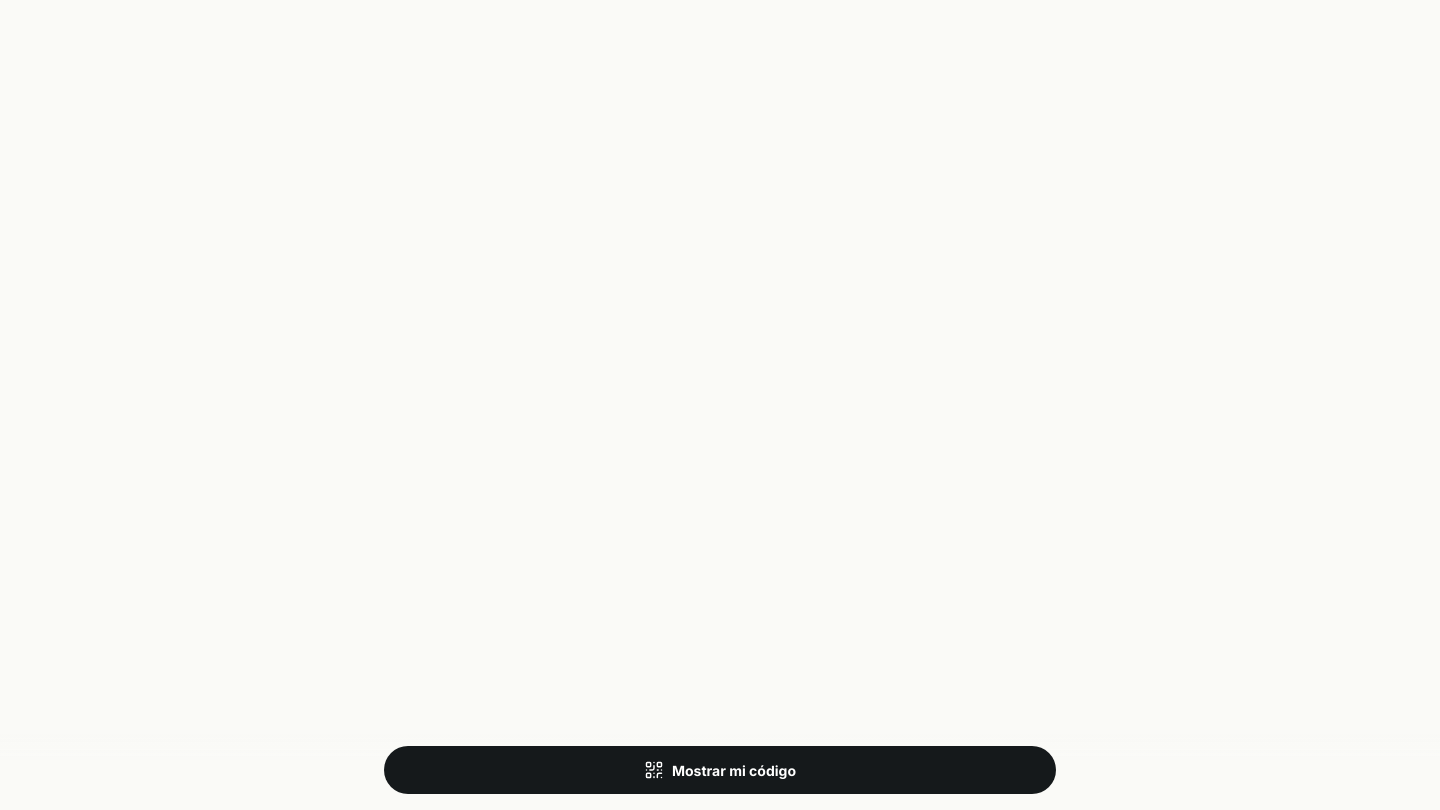
Test: the QR payload › keeps the uuid as the readable fallback for a legacy customer when the QR cannot be drawn
Click the button "Mostrar mi código" at (720, 770), box [384,746,1056,794]
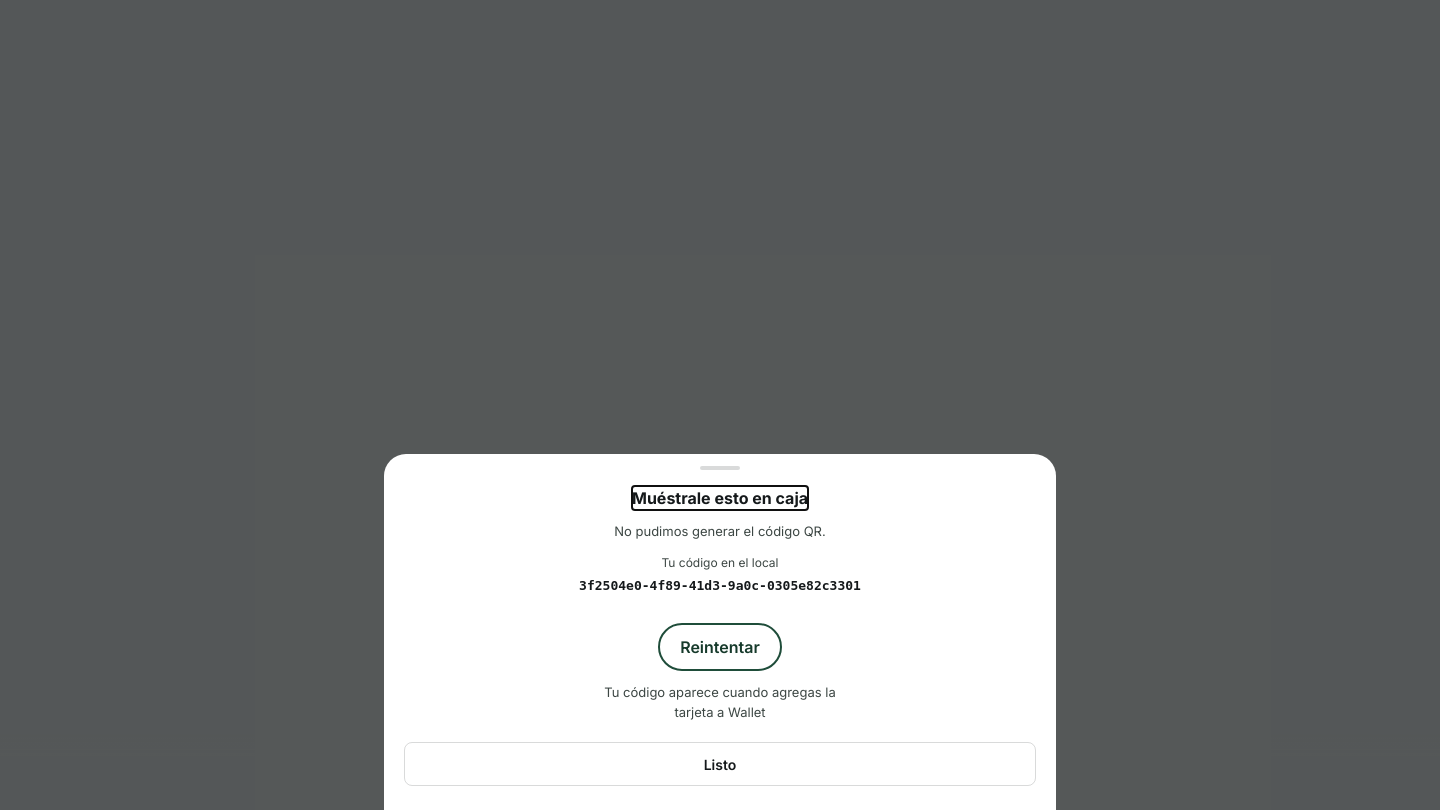
Expected: the text "No pudimos generar el código QR." is shown, [614,522,826,542]
Expected: the text "3f2504e0-4f89-41d3-9a0c-0305e82c3301" is shown, [579,576,861,595]
